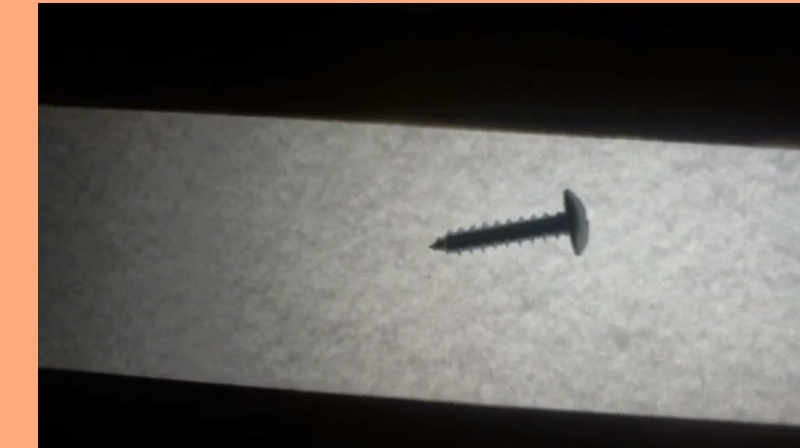S003: (428, 185, 593, 258)
